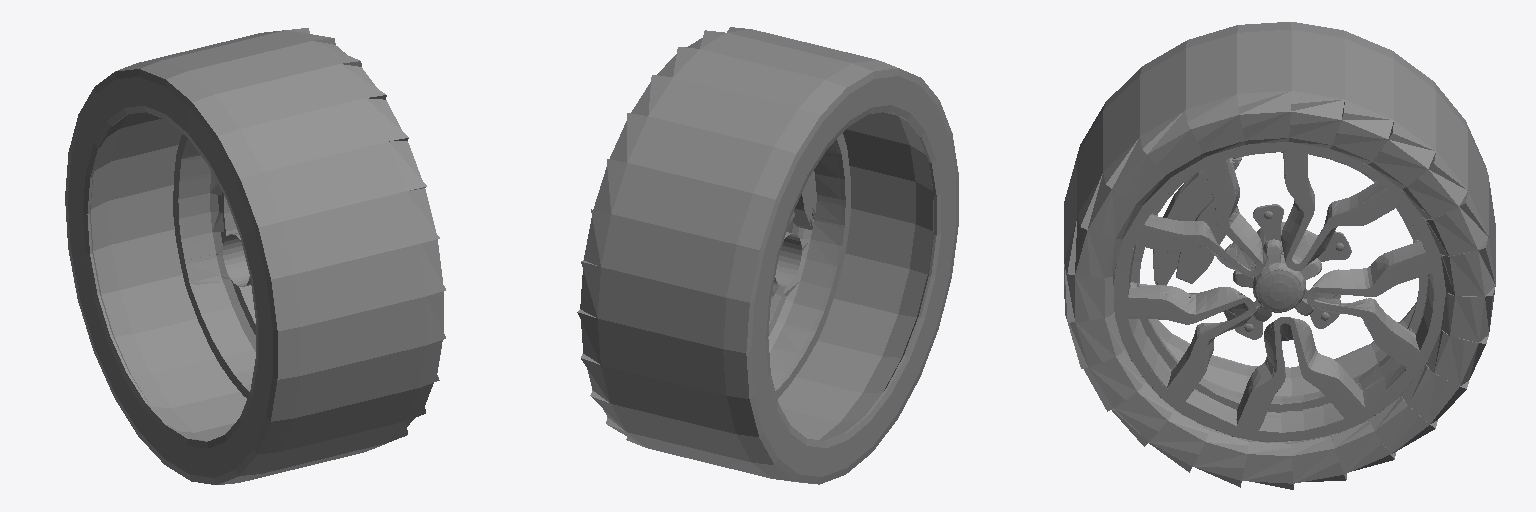
The model's file is LlantaIzquierdaAtras.obj.
The picture shows the model from 3 angles: view 1: azimuth 30°, elevation 25°; view 2: azimuth 150°, elevation 25°; view 3: azimuth 270°, elevation 25°; orthographic projection.
Parts seen in each view (by area): view 1: LlantaIzquierda; view 2: LlantaIzquierda; view 3: LlantaIzquierda.
Part boxes in pixels (x1,y1,x2,y2): LlantaIzquierda: (65,28,445,484); LlantaIzquierda: (577,27,958,484); LlantaIzquierda: (1064,22,1495,489).
Size of the model in its own units: 9.61 by 20.98 by 20.94.